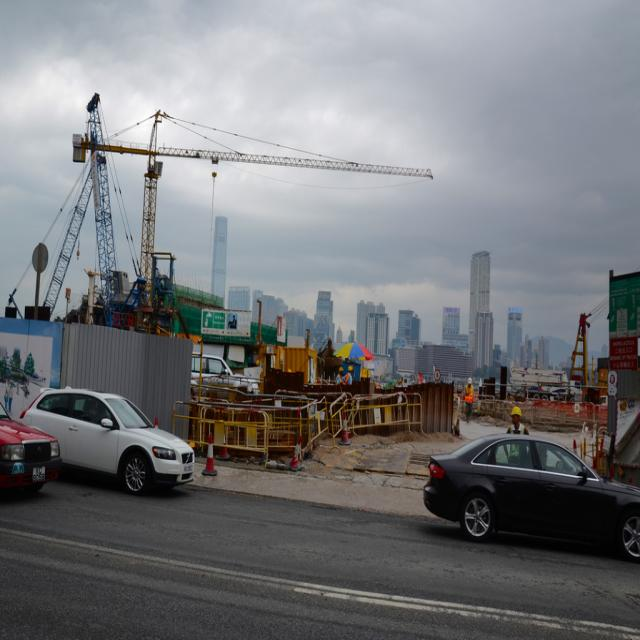car: (419, 433, 639, 560), (23, 383, 195, 495), (0, 409, 56, 501)
